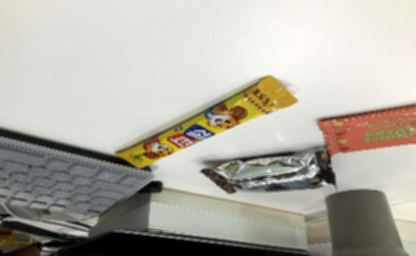jt: (113, 76, 301, 171)
mon: (198, 148, 341, 198)
pota: (316, 101, 415, 158)
